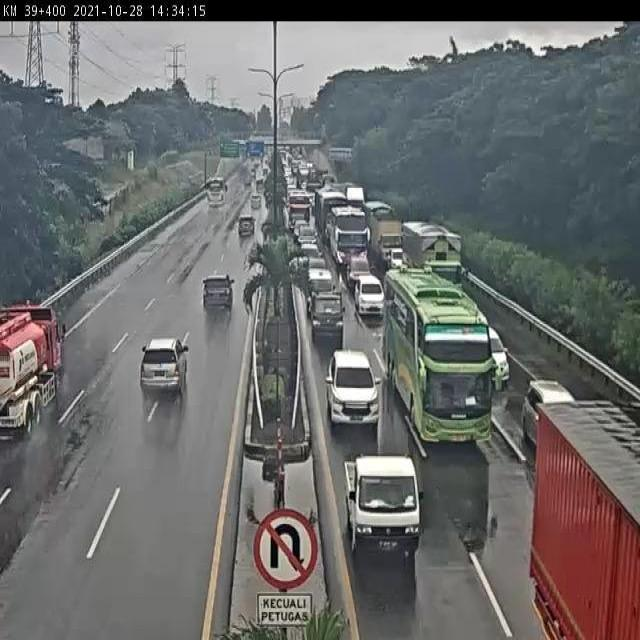big bus: (383, 270, 494, 450), (330, 208, 366, 265), (286, 190, 312, 230)
big truck: (0, 300, 66, 437), (403, 218, 464, 290), (319, 194, 345, 238)
car: (345, 451, 420, 560), (326, 351, 382, 428), (524, 379, 578, 453), (139, 339, 190, 397), (308, 292, 346, 344), (353, 272, 387, 320), (487, 324, 509, 385), (202, 272, 236, 308), (308, 275, 341, 309), (347, 255, 370, 289), (304, 255, 329, 281), (387, 246, 406, 274), (297, 234, 317, 258), (293, 218, 316, 238), (237, 212, 255, 236)
small truck: (371, 212, 404, 265)
